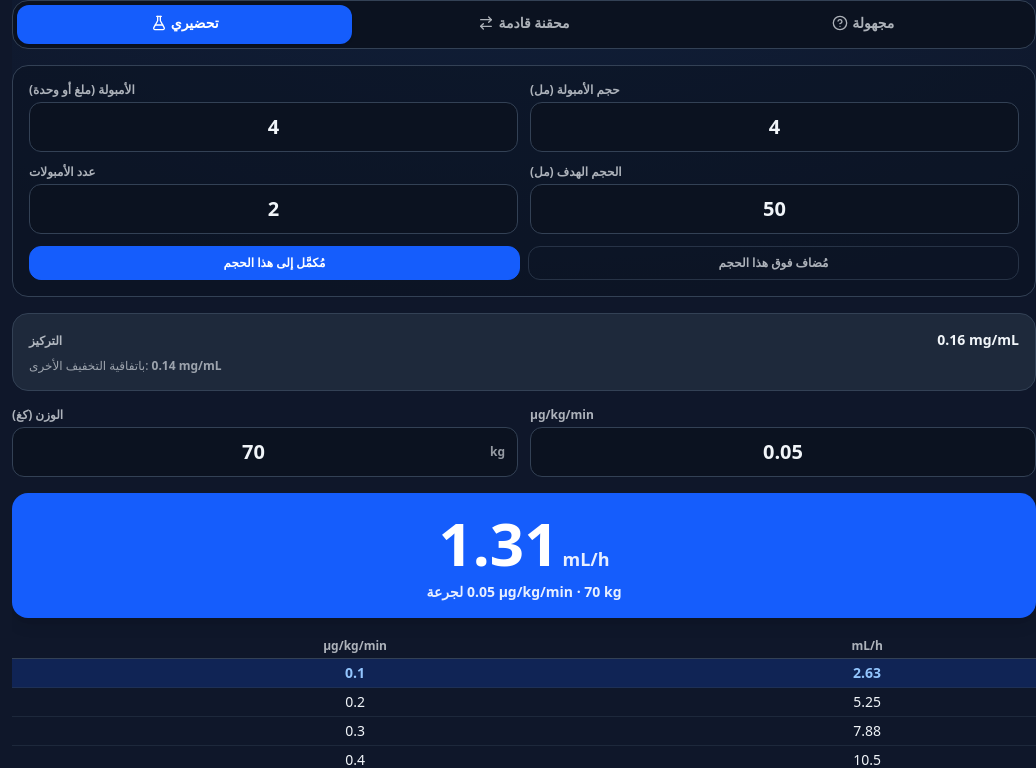
Scenario: PumpTool › يحسب السرعة ويعرضها ثم يحدّثها مع الجرعة
Expected: the text "1.31mL/h" is shown, [438,502,610,584]
Replace the text in the number field labelled "µg/kg/min" with "0.1" at (783,452), box [543,438,1023,466]
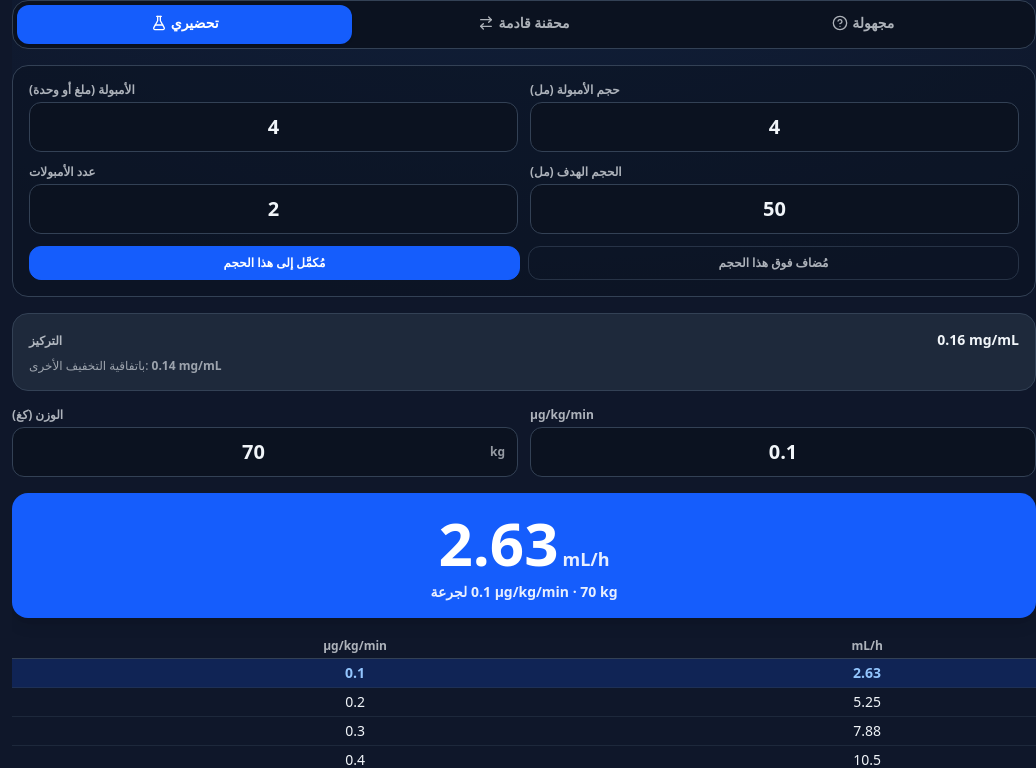
Expected: the text "2.63mL/h" is shown, [438,502,610,584]
